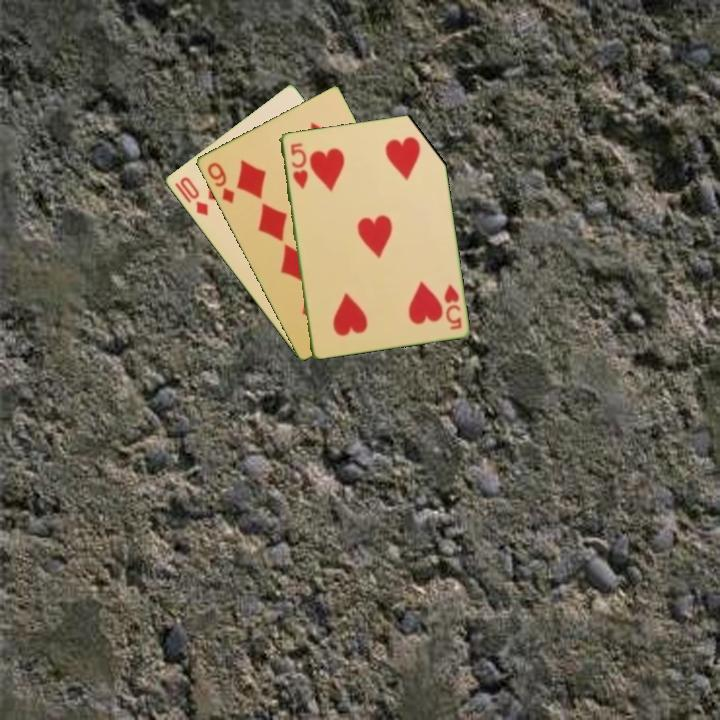10d: (176, 173, 211, 219)
5h: (440, 281, 464, 332), (287, 139, 310, 192)
9d: (203, 158, 237, 207)
